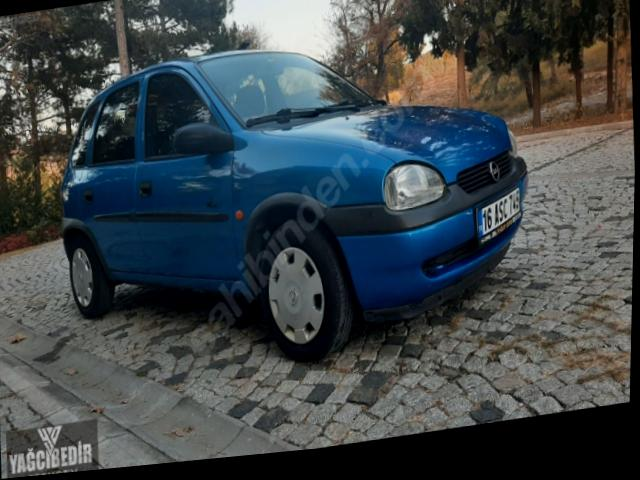plaka: (477, 186, 520, 237)
